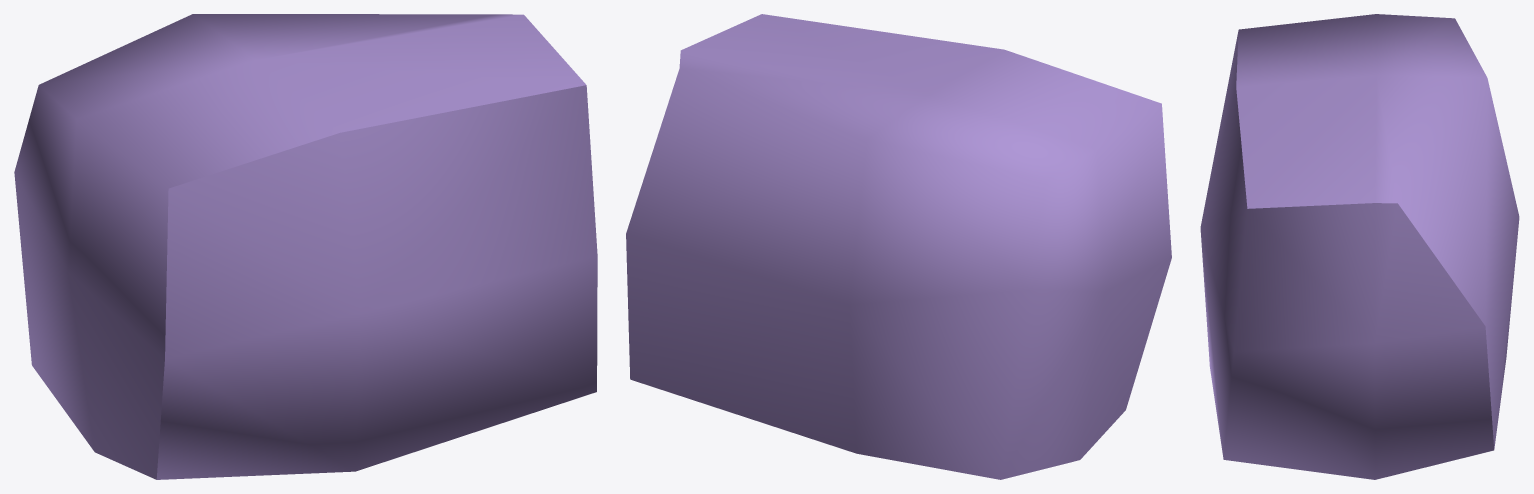
The model's file is stone_b.fbx.
The picture shows the model from 3 angles, left to right: view 1: azimuth 30°, elevation 25°; view 2: azimuth 150°, elevation 25°; view 3: azimuth 270°, elevation 25°; orthographic projection. The views are drawn at different scales.
Parts seen in each view (by area): view 1: Cube.003; view 2: Cube.003; view 3: Cube.003.
Boxes of the visible parts, left/top/right/bottom form: Cube.003: left=14, top=14, right=597, bottom=479; Cube.003: left=626, top=14, right=1171, bottom=479; Cube.003: left=1200, top=14, right=1519, bottom=479.
Bounding box in the file's own units: 1.05 × 0.785 × 0.7376.
